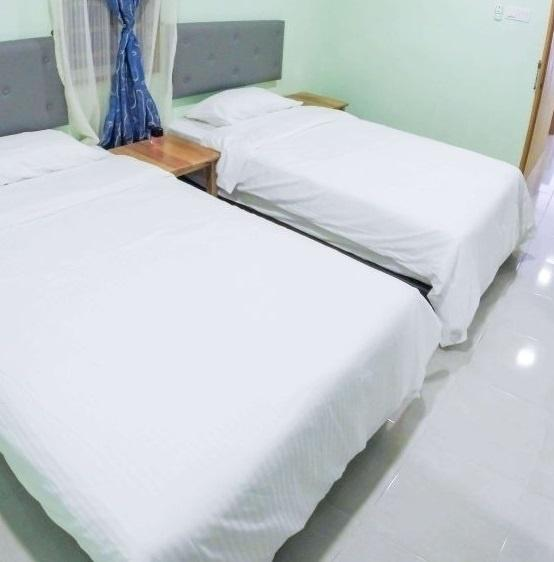bed: (0, 29, 441, 562), (163, 2, 554, 330)
table: (109, 136, 248, 209)
